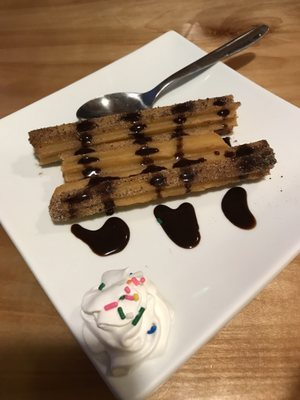burger: (76, 24, 270, 120)
